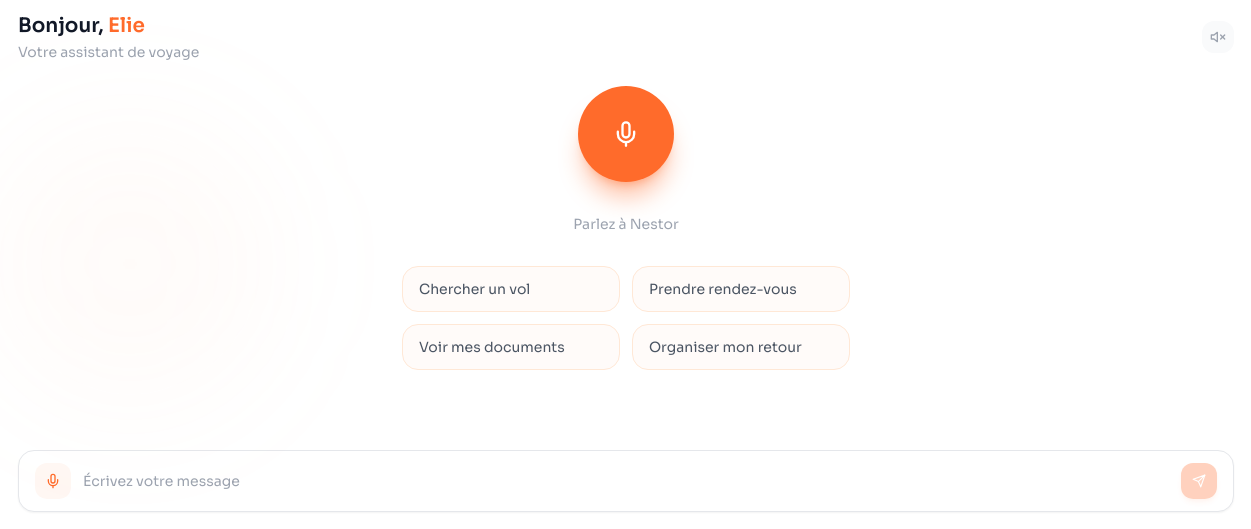
Test: IAPage › envoie un message écrit avec Entrée et affiche la réponse
This screenshot has width=1251, height=529.
Type "Vol pour Abidjan" into the field with placeholder "Écrivez votre message" at (626, 481), box [83,471,1169,491]
Then press Enter
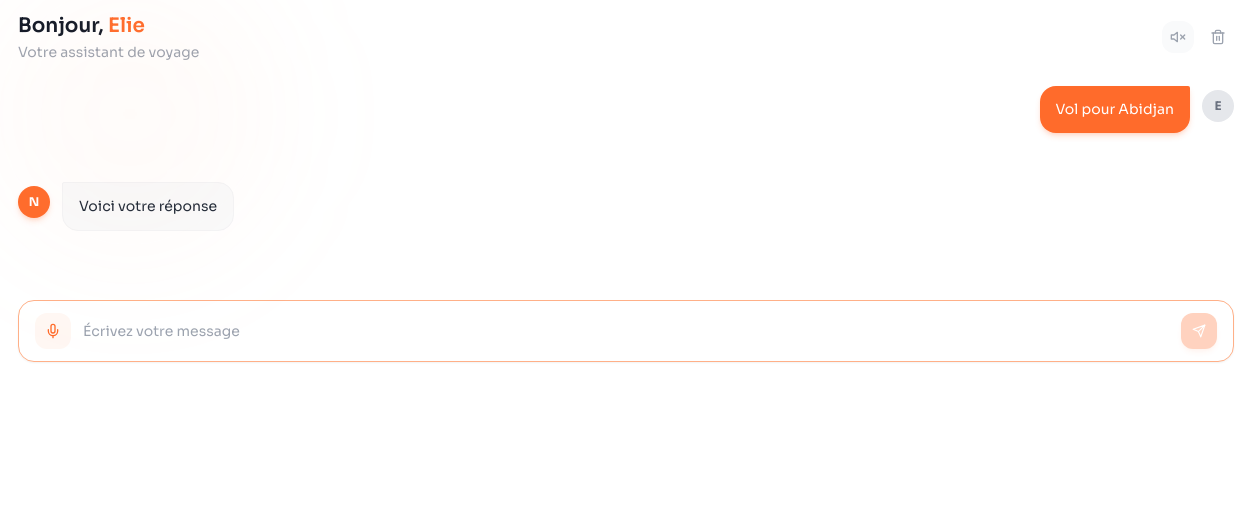
Check: the text "Voici votre réponse" is shown, box [62,182,234,231]
